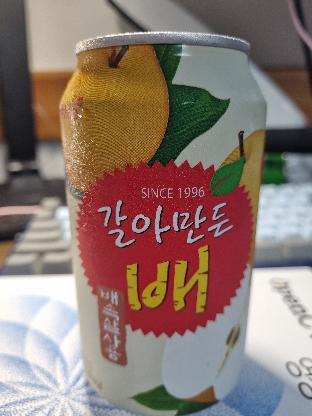Can: (58, 36, 260, 404)
